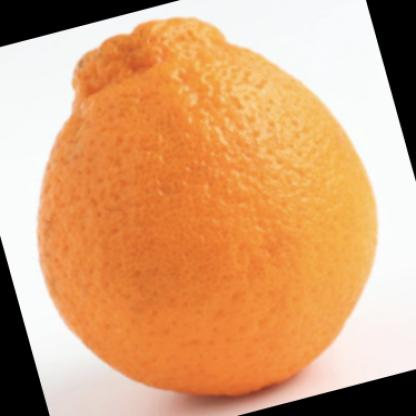fresh: (39, 18, 379, 396)
